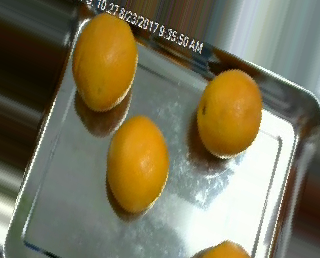Orange: (71, 12, 136, 111), (106, 114, 170, 214), (197, 67, 263, 158)
